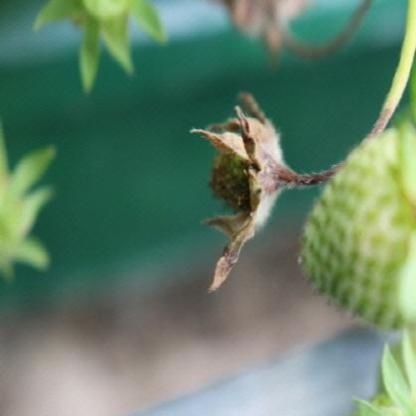Strawberry_Gray_Mold: (189, 92, 340, 294)
